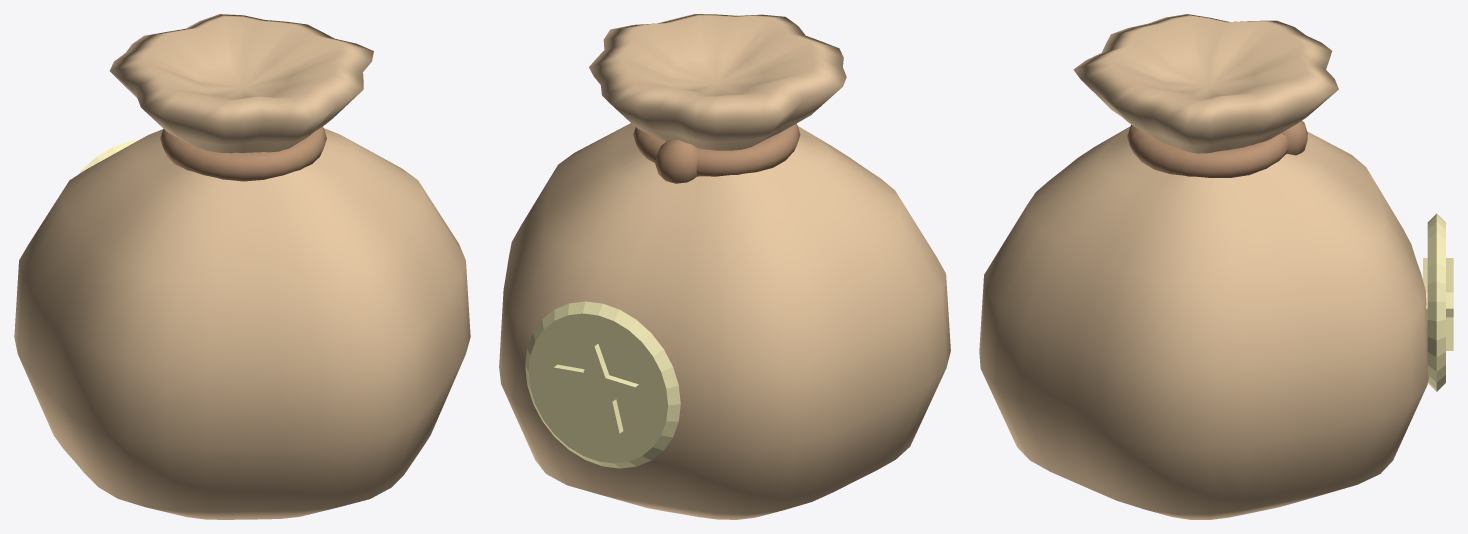
Rendered from ParasolPlummetBag.glb.
3 views of the same model, side by side, from view 1: azimuth 30°, elevation 25°; view 2: azimuth 150°, elevation 25°; view 3: azimuth 270°, elevation 25° (orthographic).
Visible parts, largest first — view 1: Sack, Tie; view 2: Sack, Emblem, Tie; view 3: Sack, Tie, Emblem.
Part boxes in pixels (<box>): Sack: <box>14,14,470,519</box>; Tie: <box>160,126,326,181</box>; Sack: <box>499,14,950,519</box>; Emblem: <box>525,301,680,468</box>; Tie: <box>633,123,800,183</box>; Sack: <box>979,14,1428,519</box>; Tie: <box>1127,121,1307,177</box>; Emblem: <box>1423,213,1453,391</box>.
Size of the model in its own units: 2.93 by 3 by 3.08.
